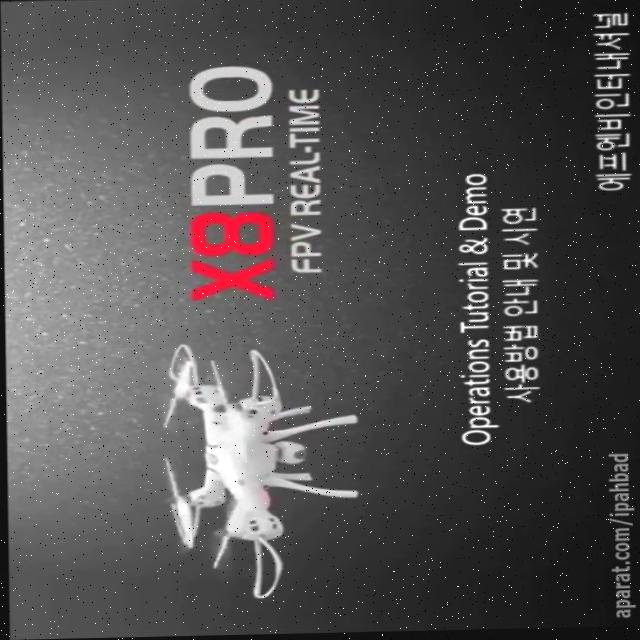drone: (158, 340, 361, 601)
